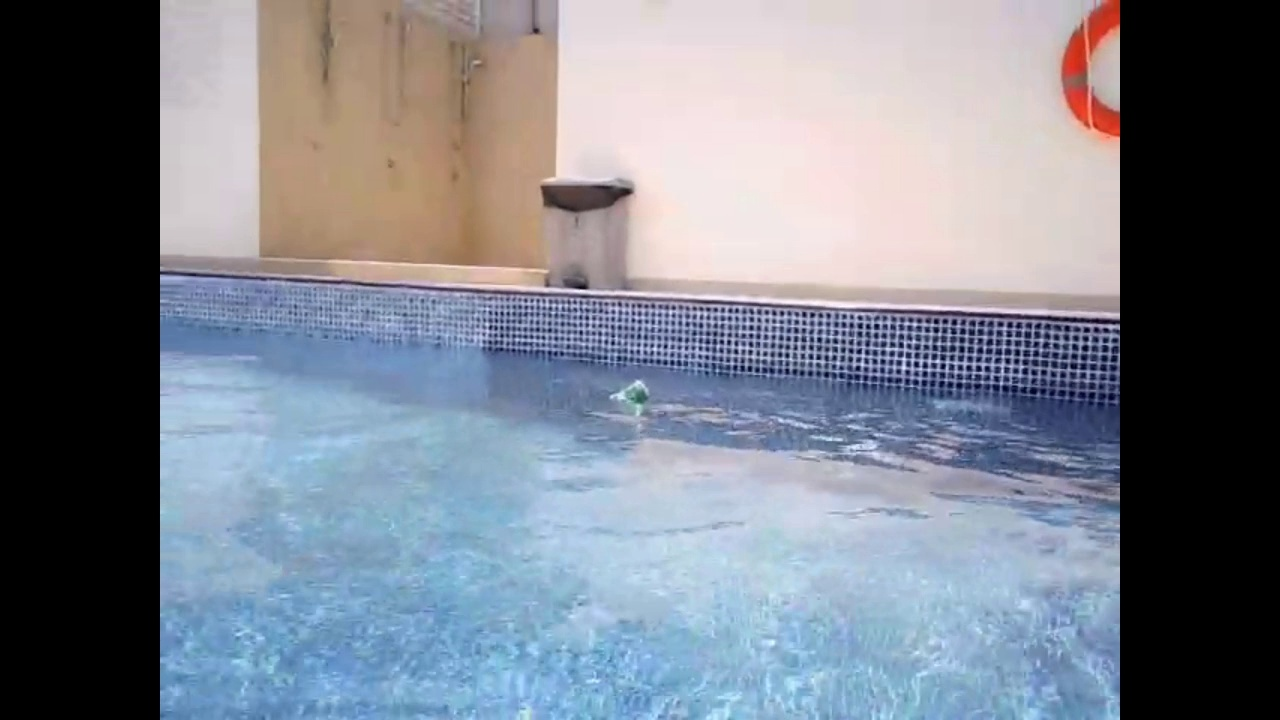debris: (606, 376, 656, 413)
